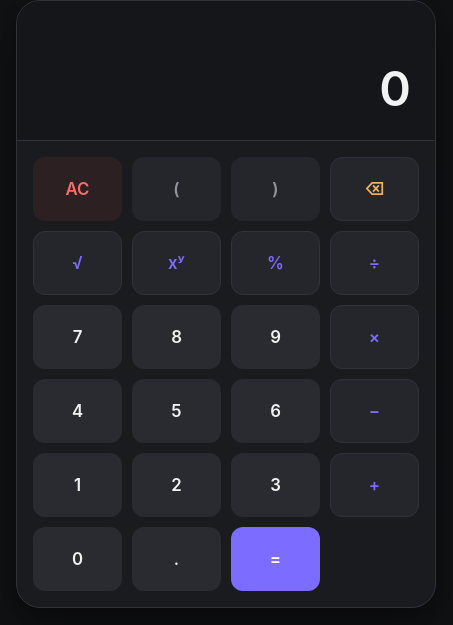
Test: Calculator › clears the calculator state
Click the button "8" at coordinates (176, 337), box [132,305,221,369]
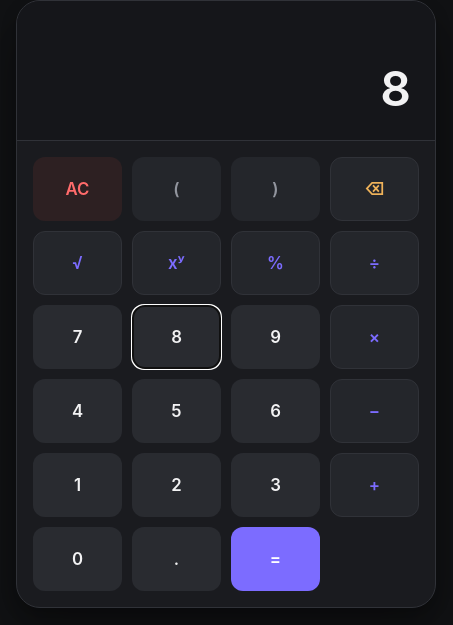
Click the button "+" at coordinates (374, 485), box [330,453,419,517]
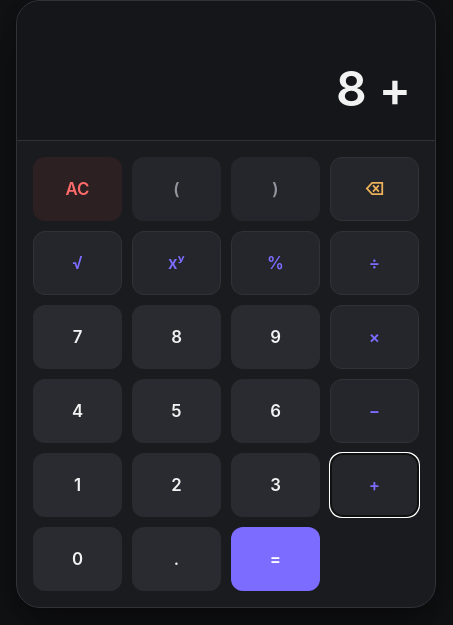
Click the button "5" at coordinates (176, 411), box [132,379,221,443]
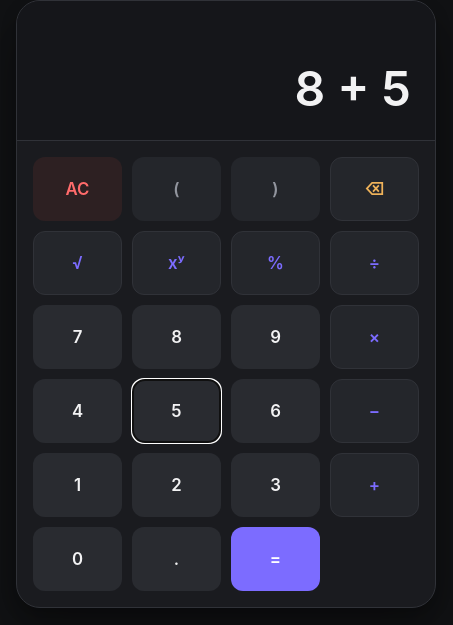
Click the button "AC" at coordinates (78, 189), box [33,157,122,221]
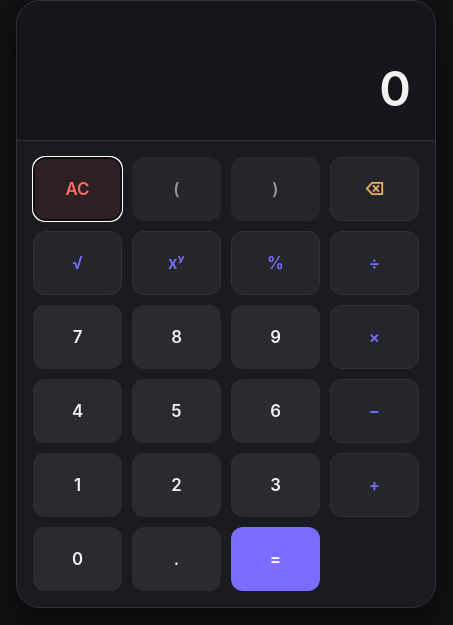
Now the text "0" is shown, box [379,59,411,118]
